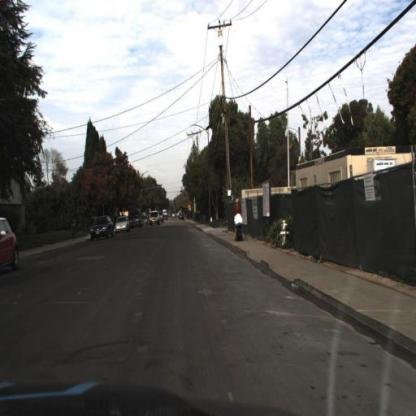car: (1, 216, 22, 279), (86, 209, 117, 246), (89, 214, 116, 241), (114, 214, 132, 237)
pedestrian: (232, 196, 244, 247), (68, 209, 82, 244)
